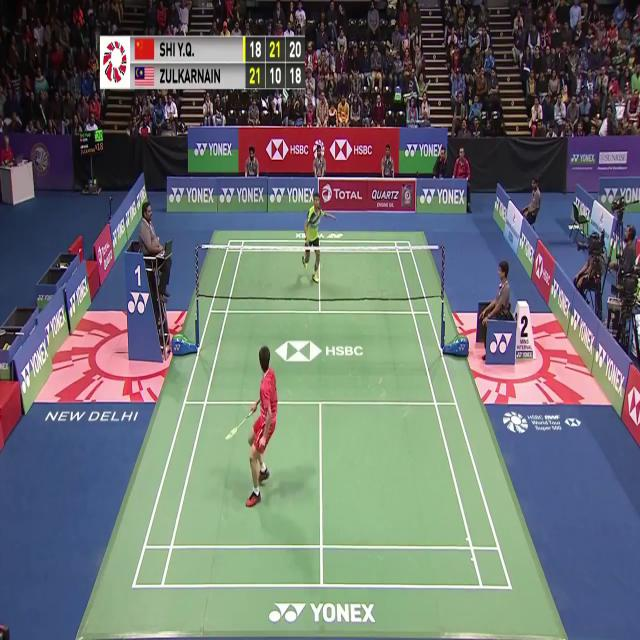Shuttlecock: (326, 192, 333, 204)
